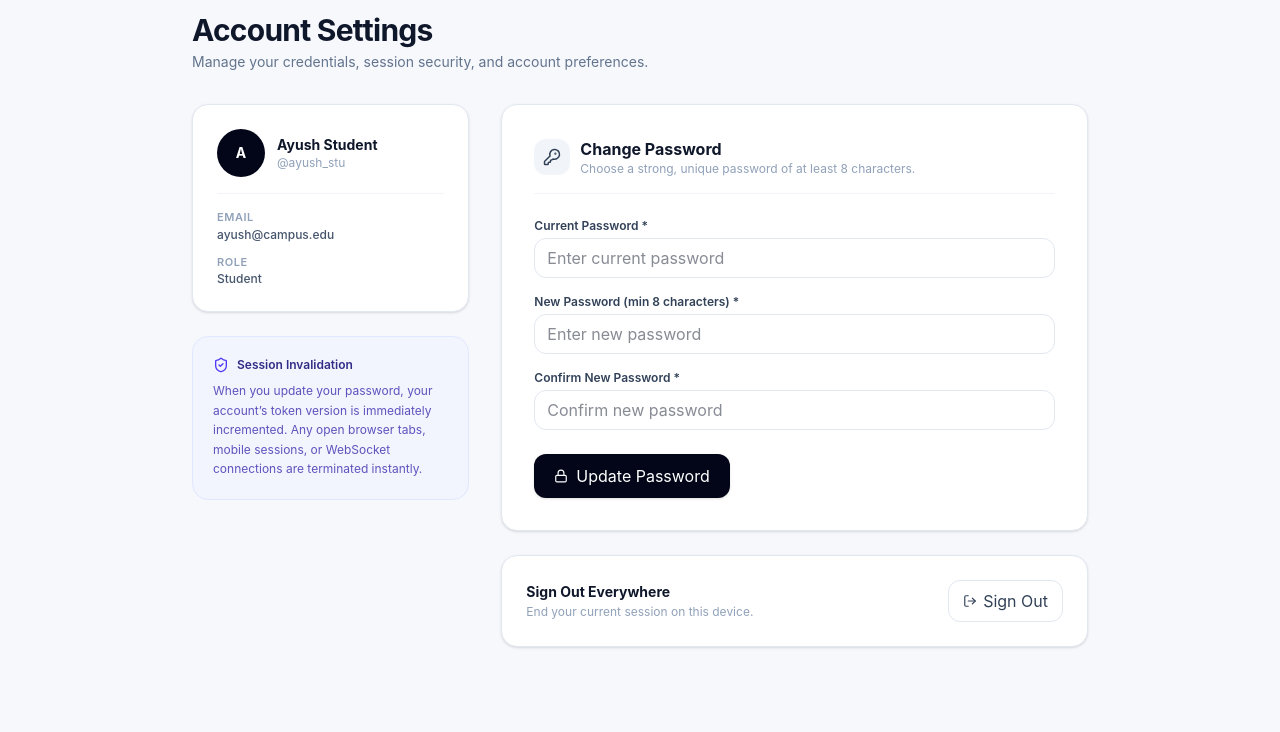
Phase 6 Frontend Components › Settings Page › renders settings and validates password matching before submission
Expected: the heading "Change Password" is shown, [580, 139, 722, 159]
Expected: the text "Session Invalidation" is shown, [237, 357, 353, 373]
Type "Current123!" into the password field with placeholder "Enter current password". click: [795, 258]
box: [534, 238, 1055, 278]
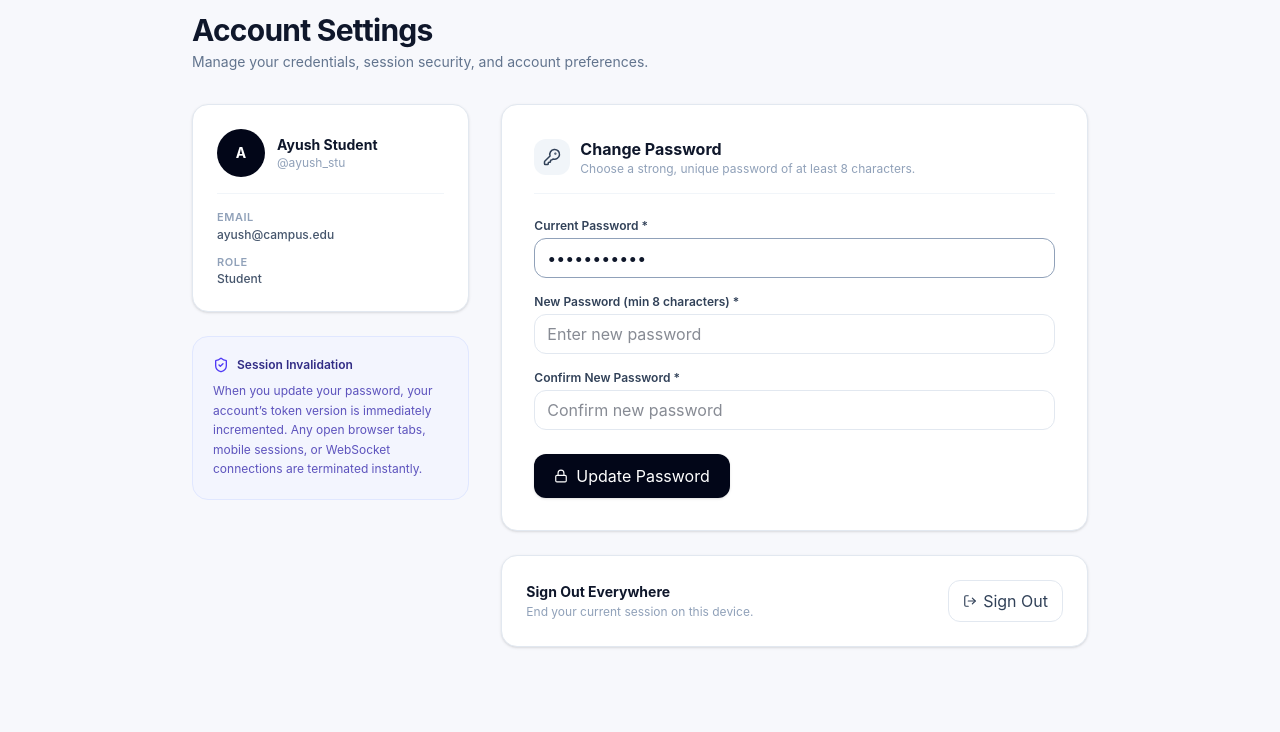
Type "NewPass123!" into the password field with placeholder "Enter new password". click: [795, 334]
box: [534, 314, 1055, 354]
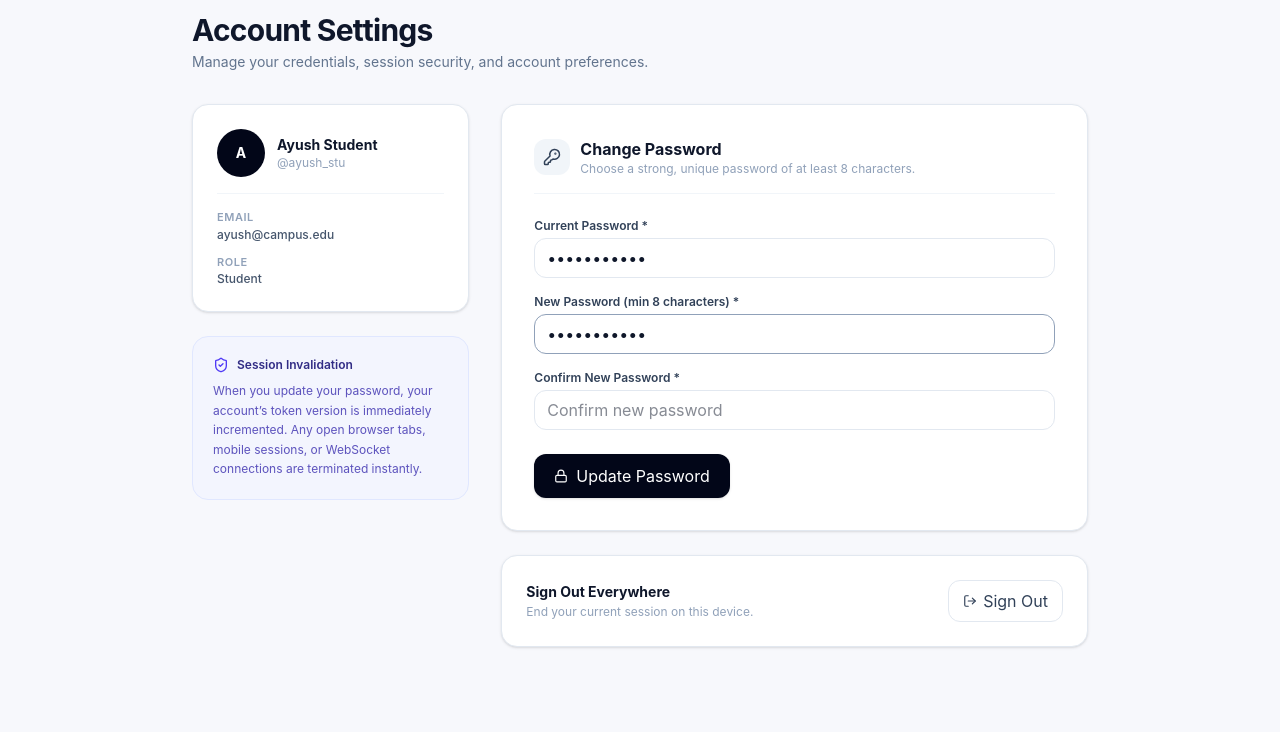
Type "MismatchPass!" into the password field with placeholder "Confirm new password". click: [795, 410]
box: [534, 390, 1055, 430]
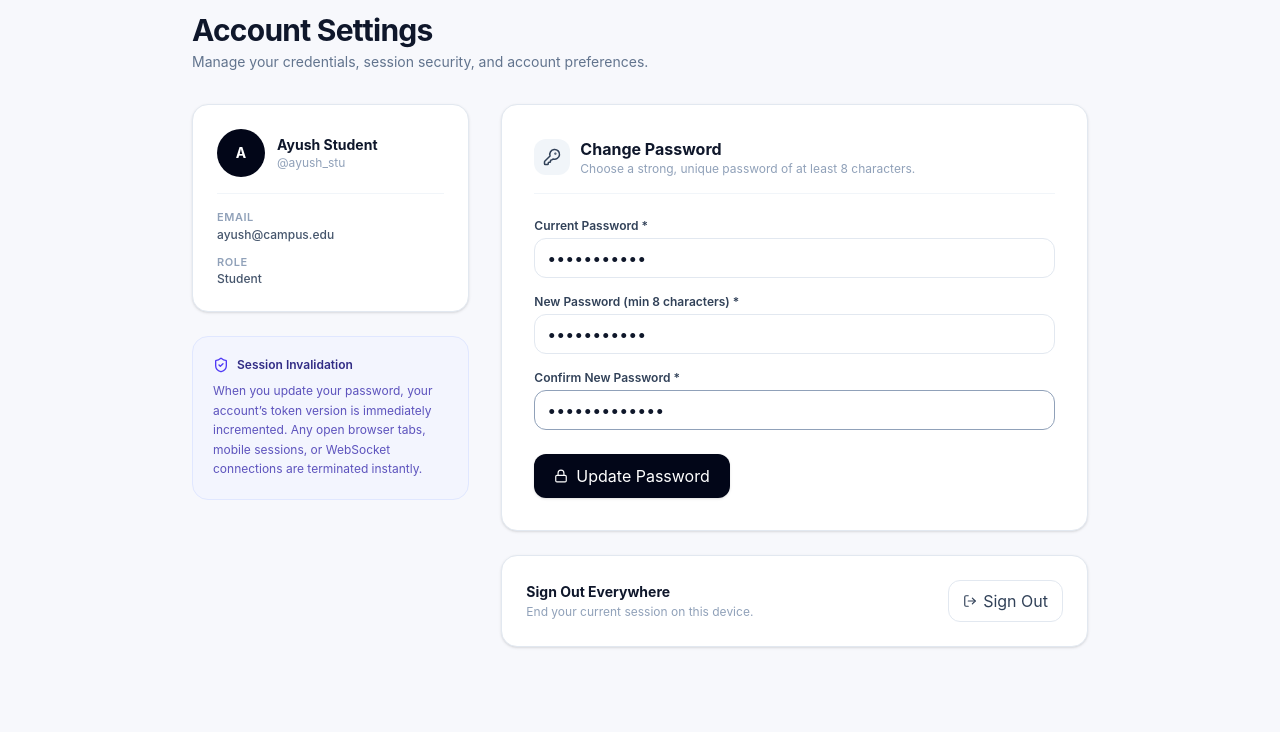
Click the button "Update Password". click: [632, 476]
box: [534, 454, 730, 498]
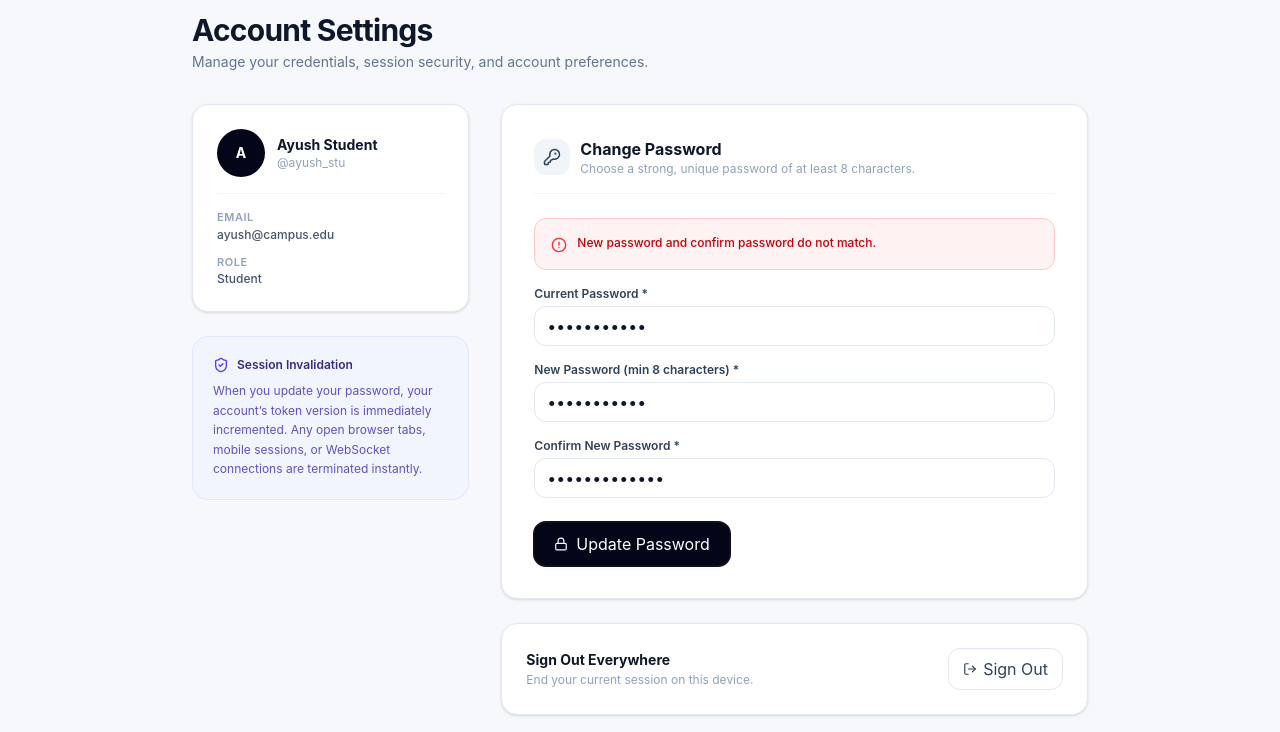
Expected: the text "New password and confirm password do not match." is shown, [577, 235, 876, 251]
Type "NewPass123!" into the password field with placeholder "Confirm new password" below "Confirm New Password *". click: [795, 478]
box: [534, 458, 1055, 498]
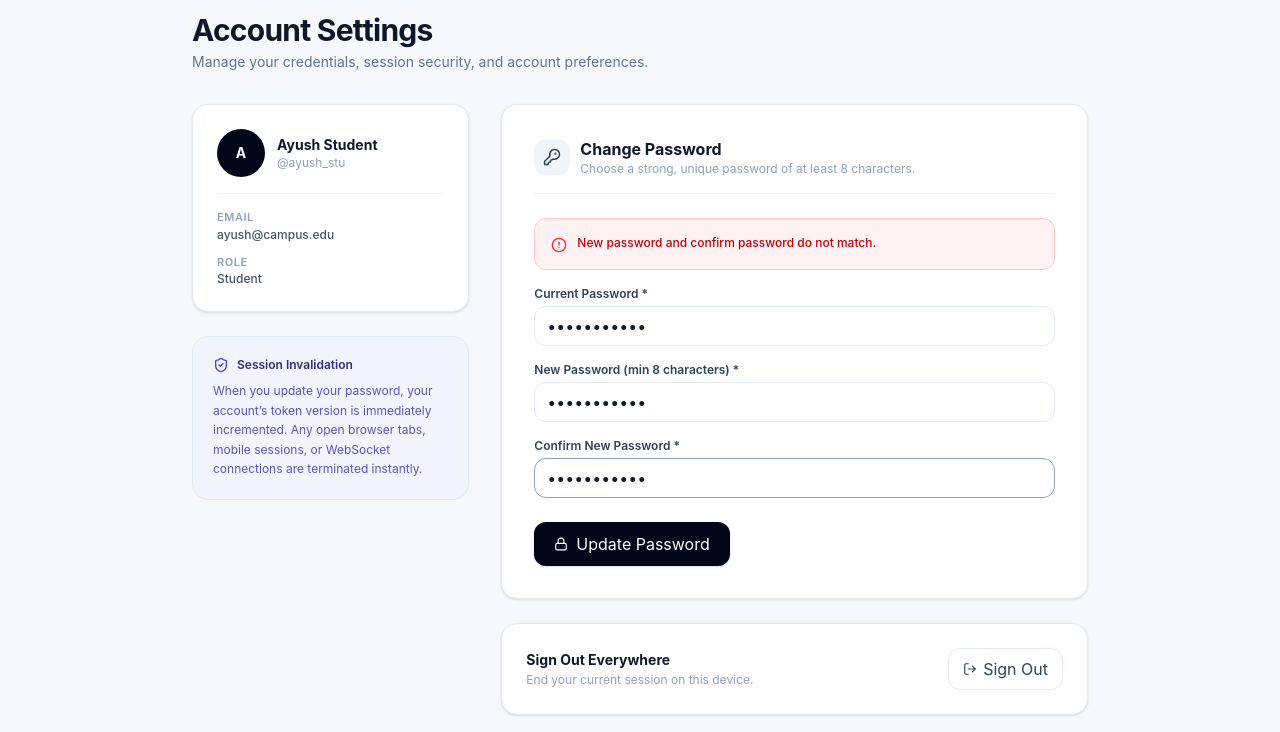
Click the button "Update Password". click: [632, 544]
box: [534, 522, 730, 566]
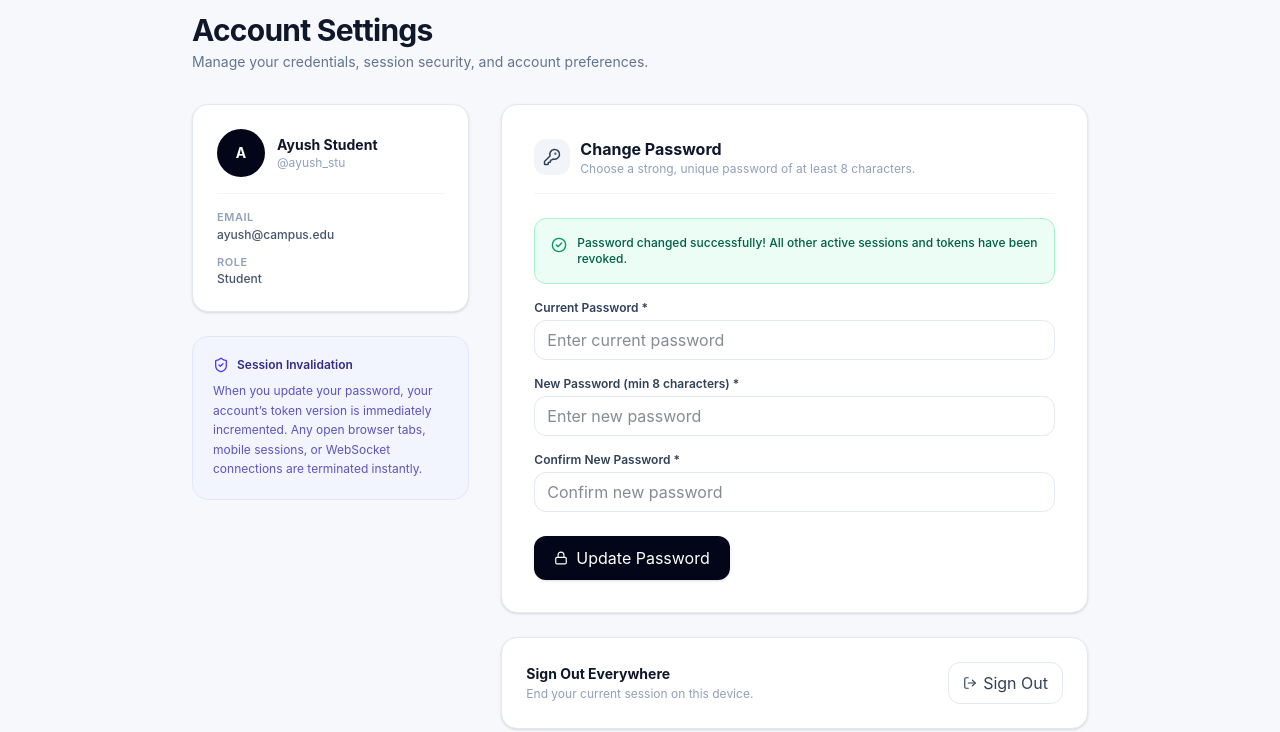
Expected: the text "All other active sessions and tokens have been revoked" is shown, [577, 235, 1038, 266]
